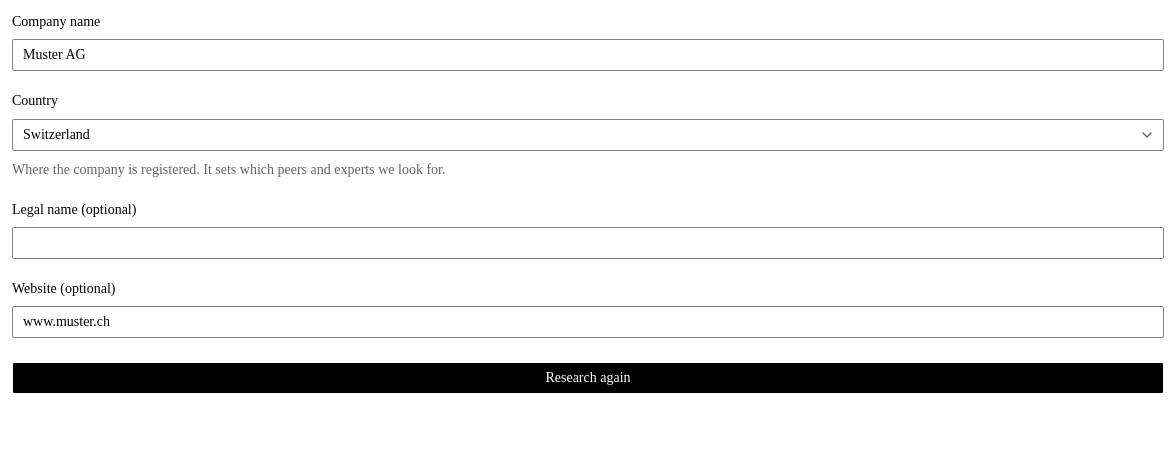
Test: RerunForm (AC-8) › announces not_found inline and leaves the form usable
The image size is (1176, 475).
Click the button "Research again".
click(588, 378)  # box x1=12 y1=362 x2=1164 y2=394
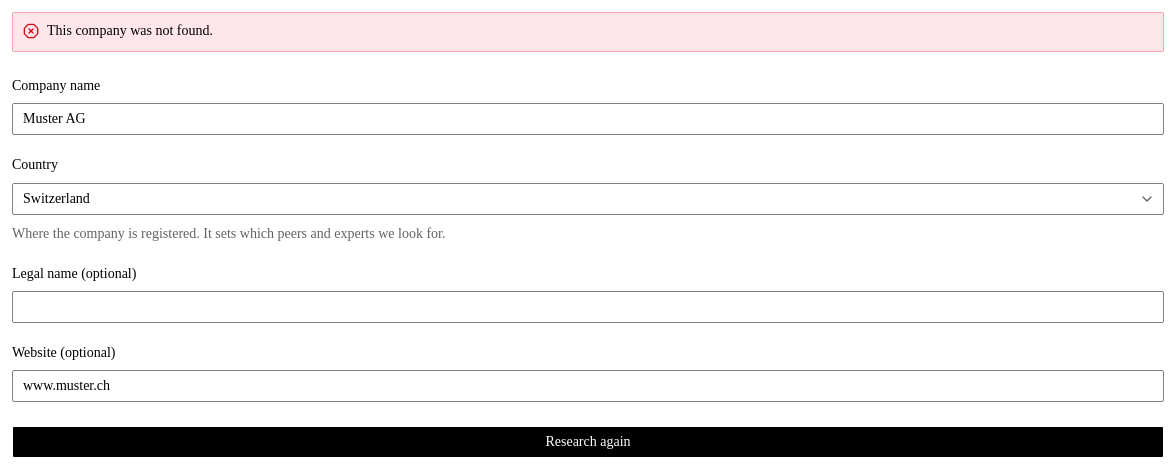
Expected: the button "Research again" is enabled, x1=12 y1=426 x2=1164 y2=458
Result: the message reads "This company was not found." at x1=47 y1=23 x2=213 y2=38
